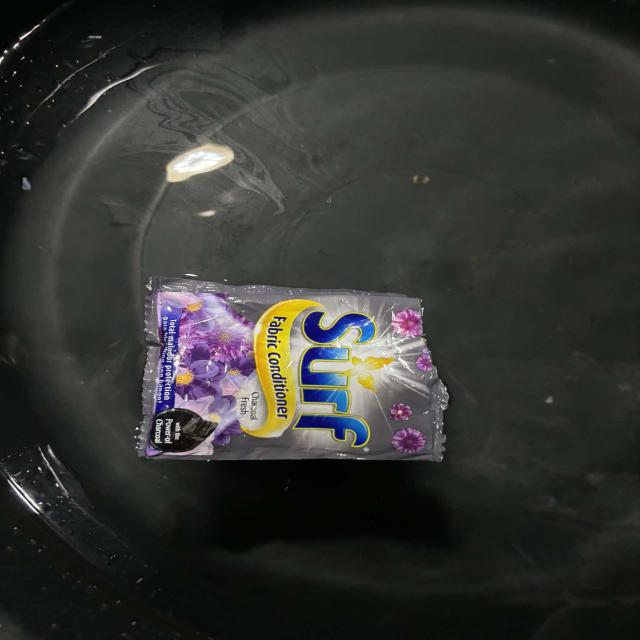Plastic Wrapper: (244, 299, 323, 438)
